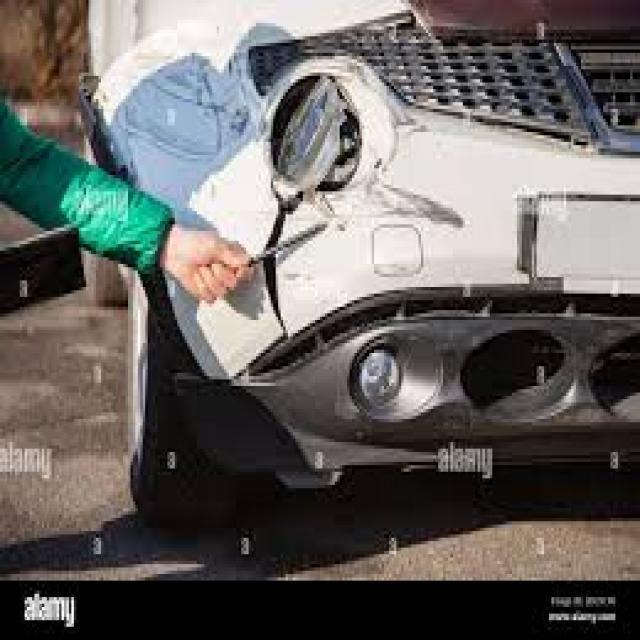damaged-head-light: (268, 78, 376, 191)
